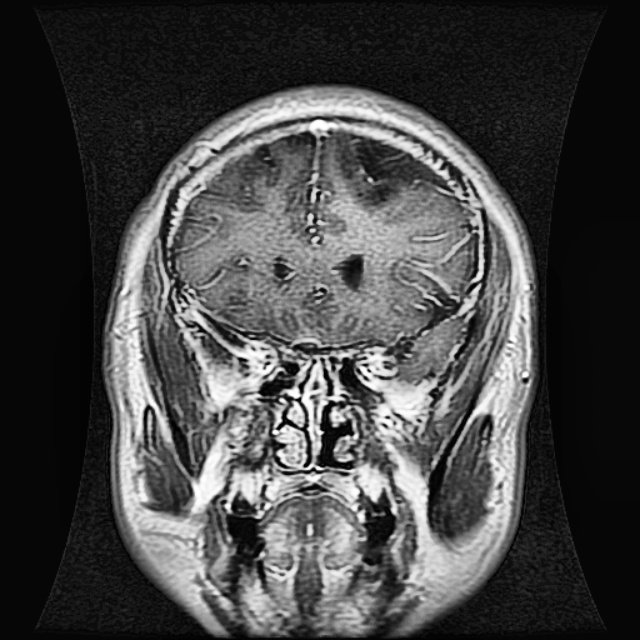Meningioma: (332, 133, 444, 208)
